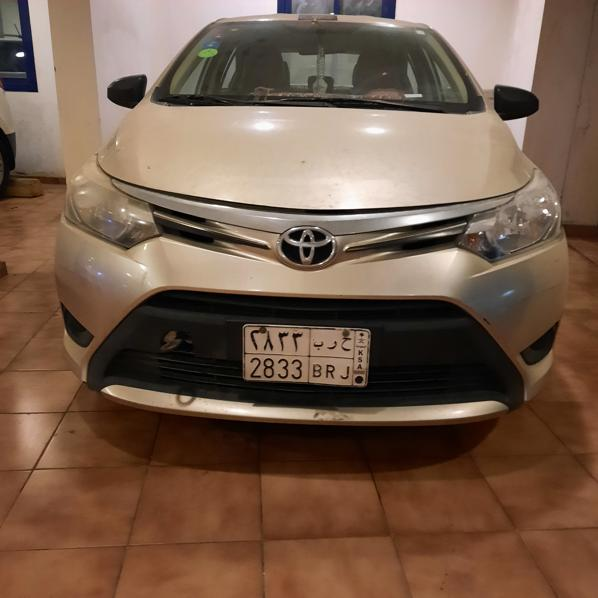numberplate: (243, 324, 371, 387)
